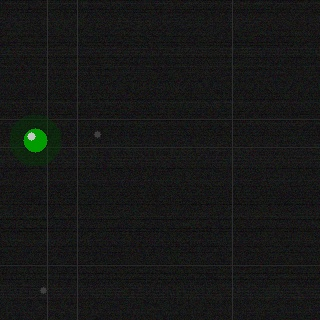green_normal: (21, 126, 49, 154)
